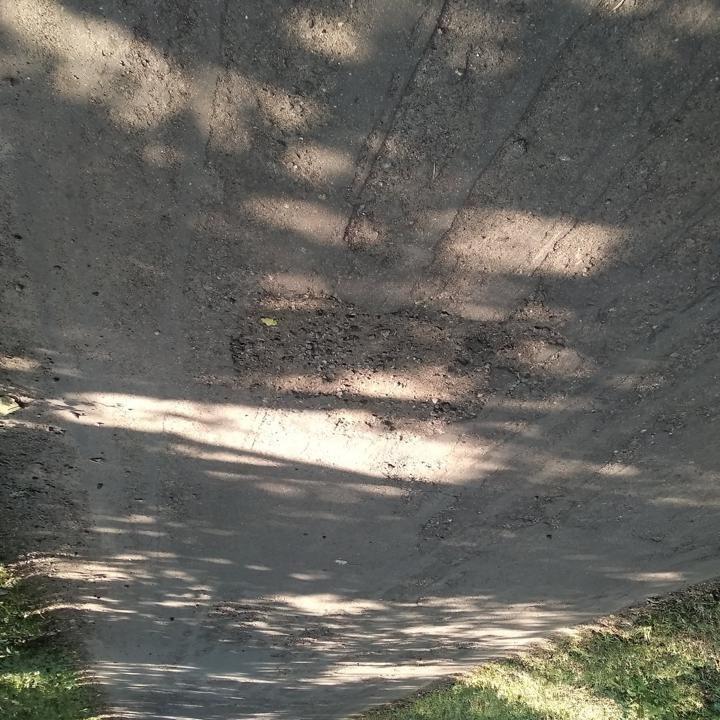pothole: (217, 298, 507, 441)
